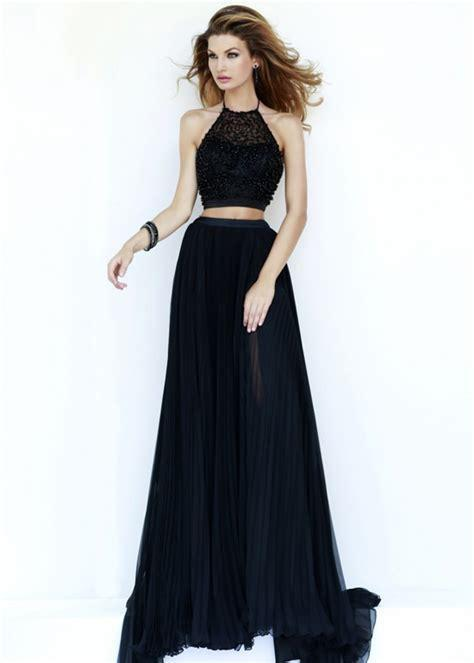Tshirt: (196, 99, 284, 210)
skirt: (118, 215, 381, 663)
